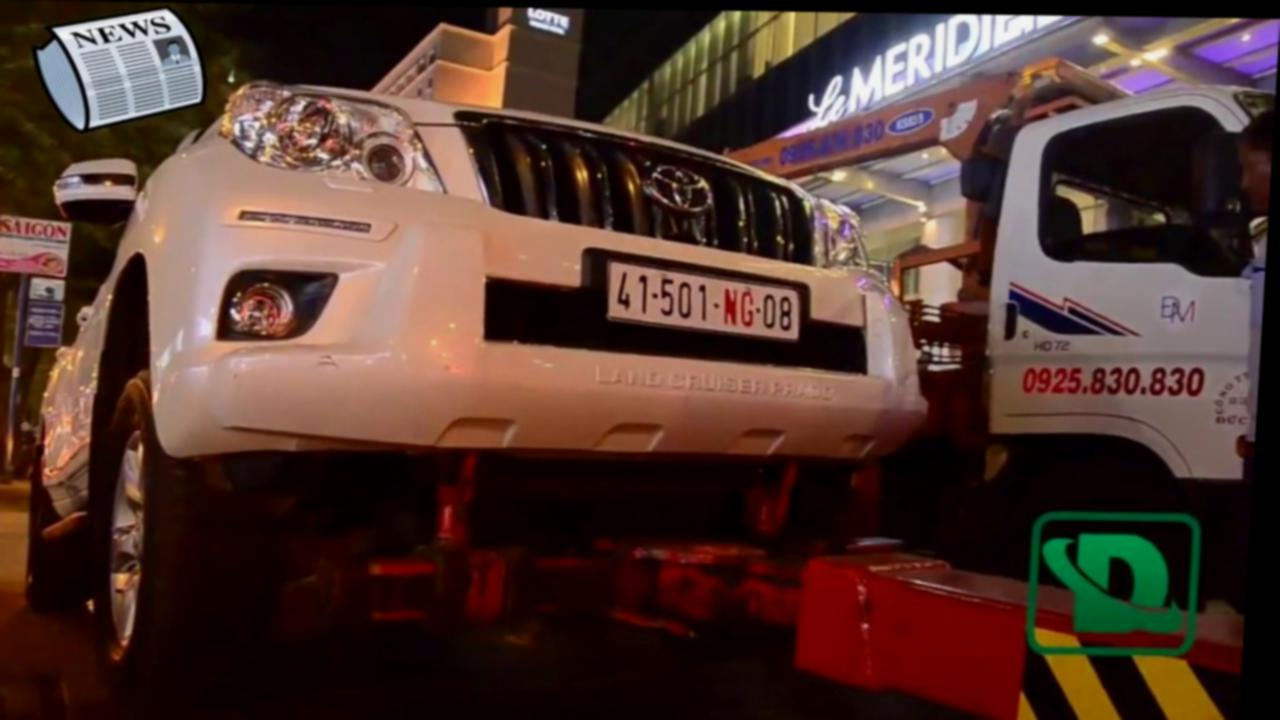License_Plate: (596, 262, 808, 345)
